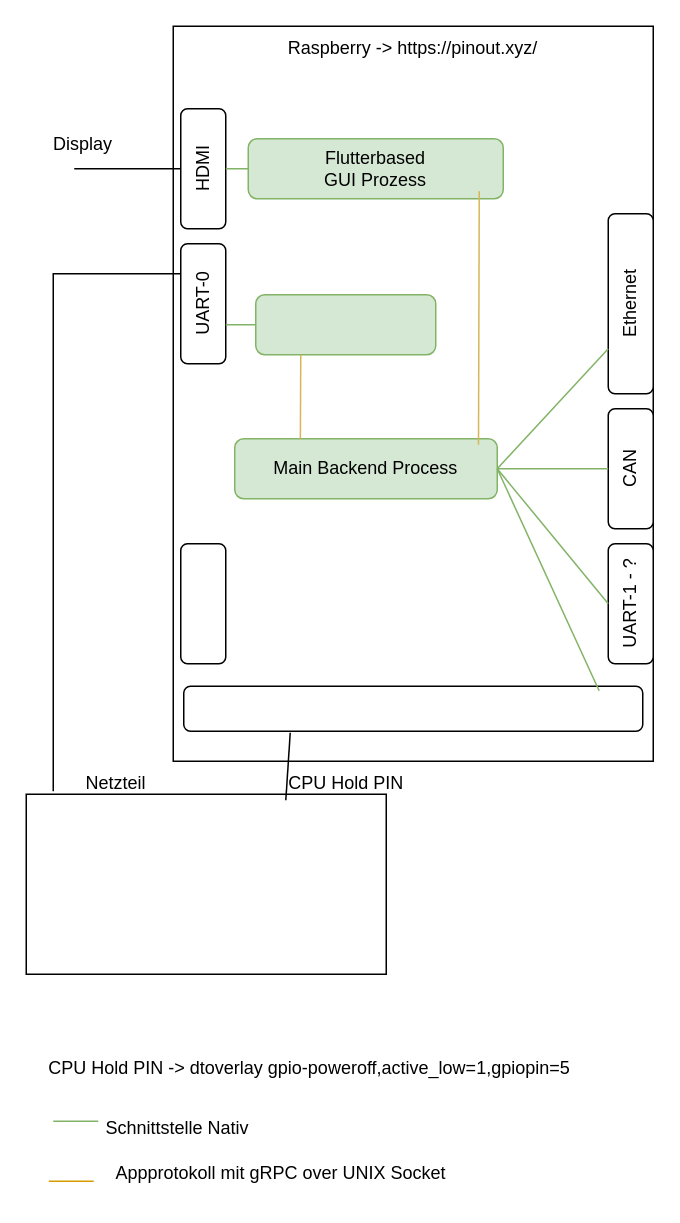
Some shapes in this 680 by 1223 pixel diagram are drawn without their labels. The shapes that lost their labels are listed below. From the top down, each one's box as (x1, y1, x2, y2) in pixels, then its label:
(254, 293, 436, 355): System Control Backend Process
(179, 542, 226, 664): Sound
(182, 685, 643, 731): GPIO
